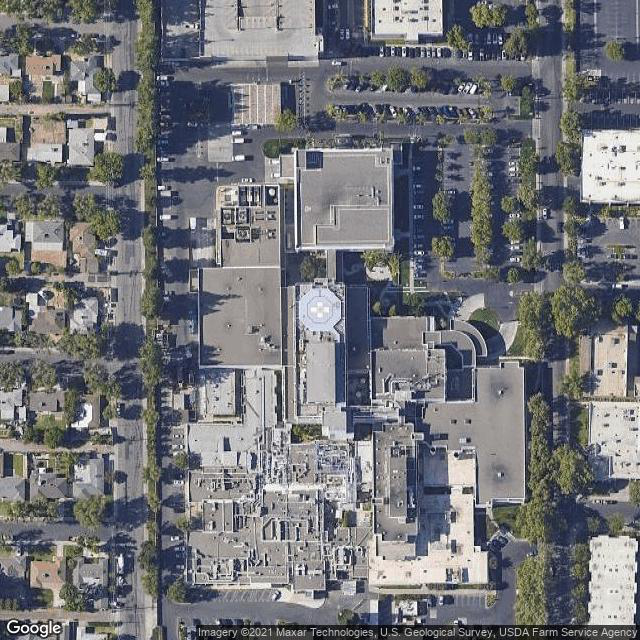Helipad: (304, 293, 337, 325)
